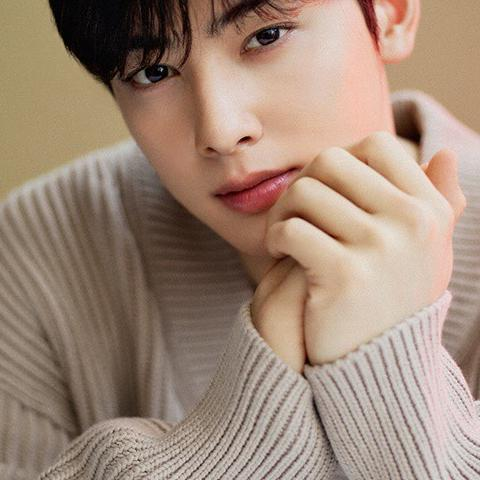opened: (102, 0, 319, 105)
